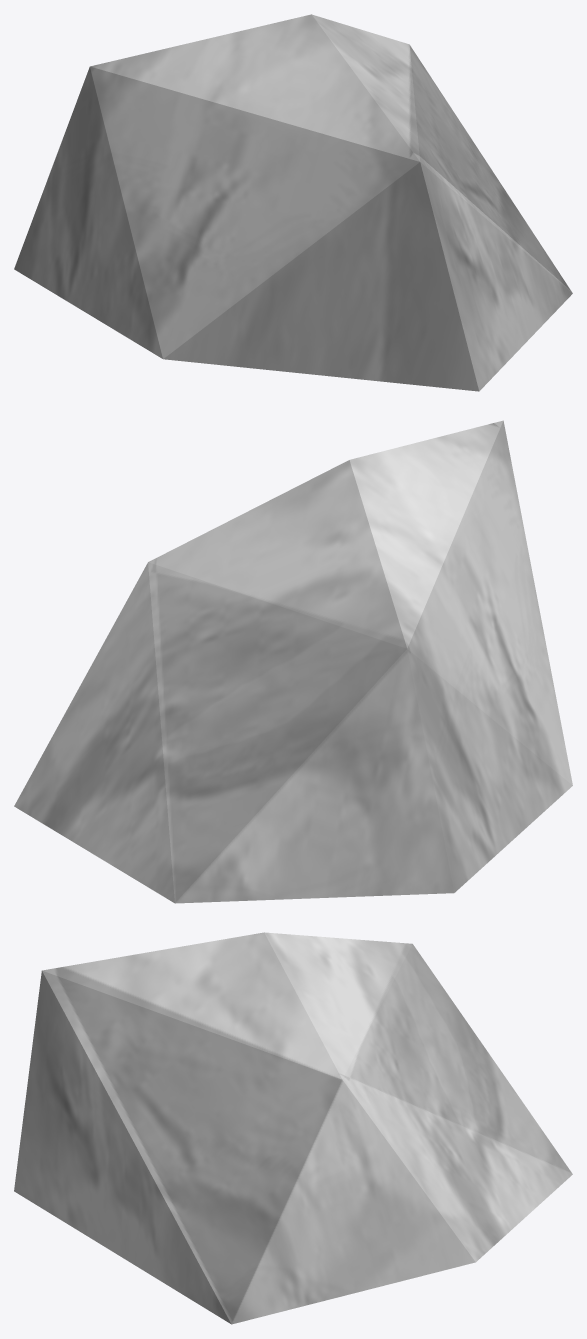
The model's file is rock2.FBX.
The picture shows the model from 3 angles, top to bottom: view 1: azimuth 30°, elevation 25°; view 2: azimuth 150°, elevation 25°; view 3: azimuth 270°, elevation 25°; orthographic projection. The views are drawn at different scales.
Visible parts, largest first — view 1: GeoSphere003; view 2: GeoSphere003; view 3: GeoSphere003.
Boxes of the visible parts, bbox=[...] form: GeoSphere003: bbox=[14, 14, 572, 391]; GeoSphere003: bbox=[14, 420, 572, 903]; GeoSphere003: bbox=[14, 932, 572, 1324].
Size of the model in its own units: 61.86 by 44.91 by 76.92.
Materials: 1 (1 with a texture image).
